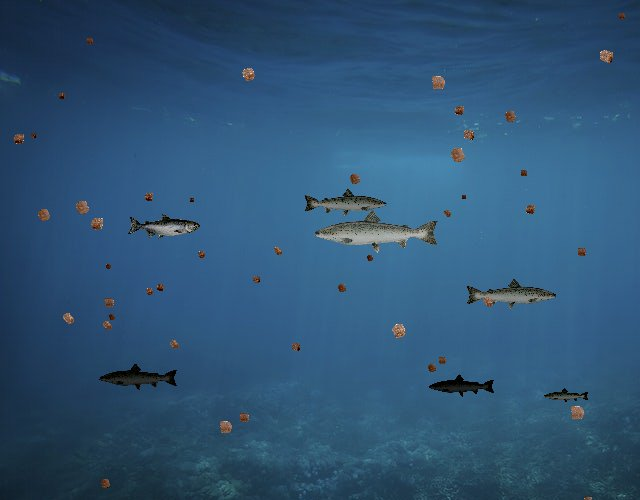Fish: (312, 208, 441, 254), (464, 278, 558, 311), (302, 187, 388, 218), (99, 362, 180, 391), (128, 213, 201, 240), (429, 373, 497, 398), (543, 388, 590, 404)
Pellet: (234, 60, 262, 88), (56, 306, 81, 331), (27, 129, 39, 141)
